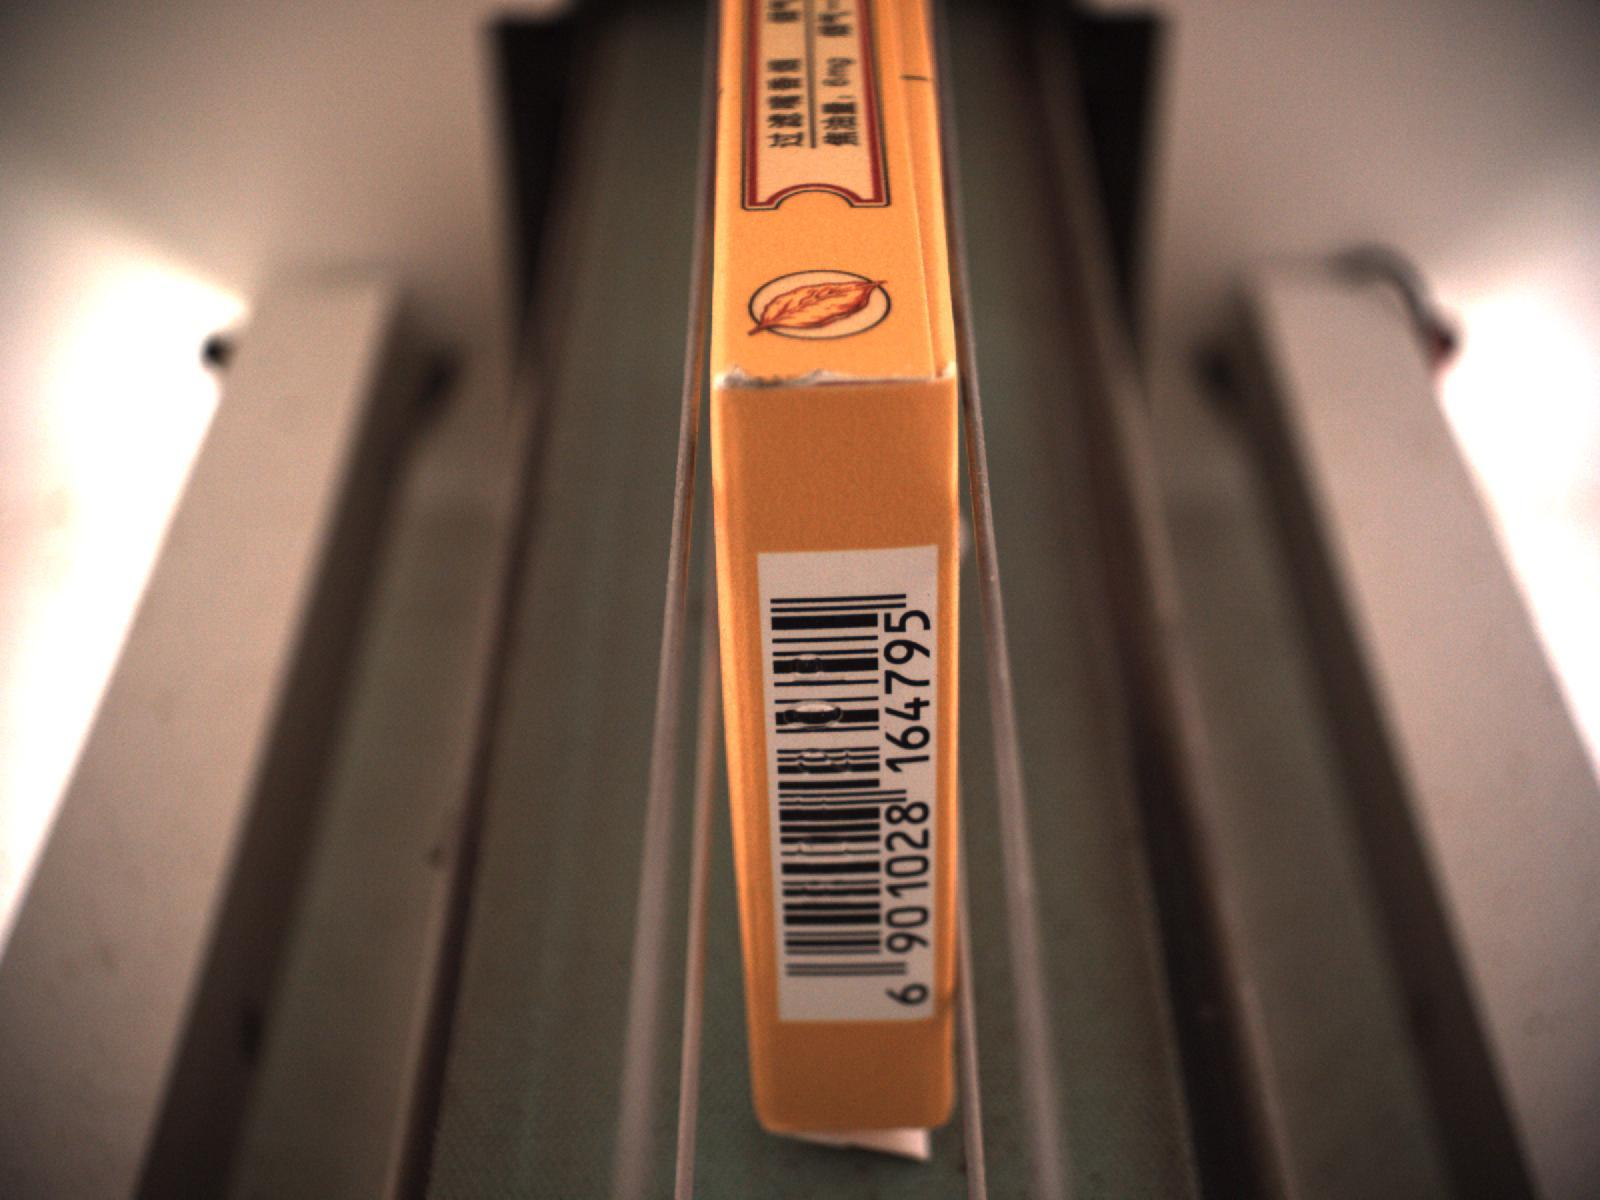skewed_bottom_3: (758, 1111, 957, 1167)
skewed_upper_3: (883, 1, 963, 395)
